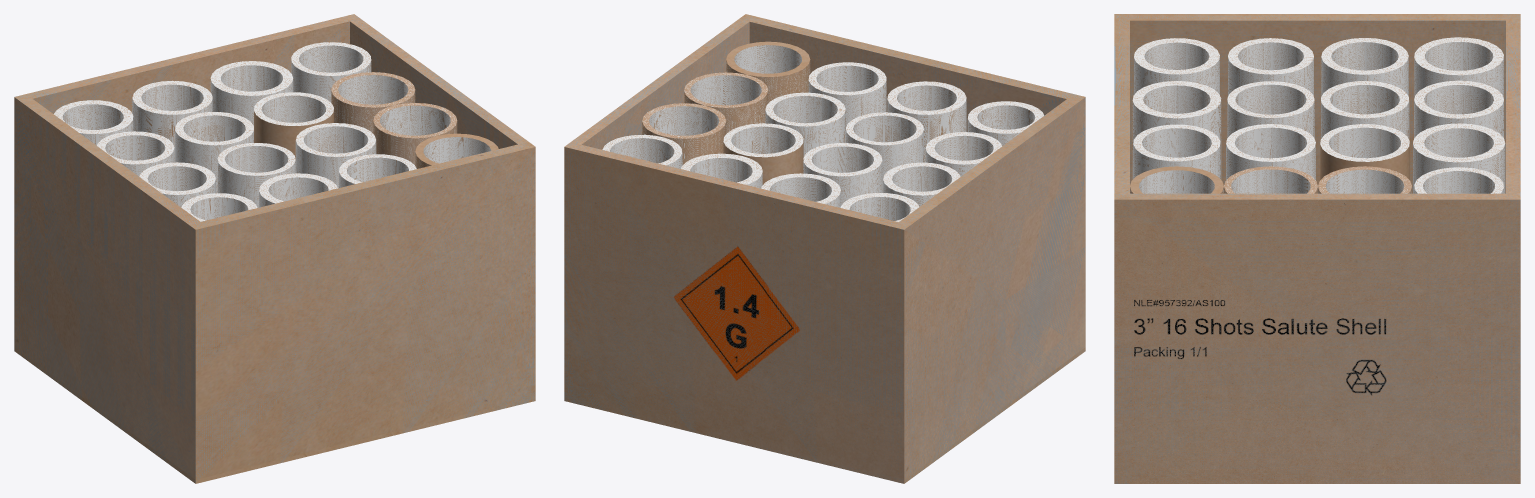
The picture shows the model from 3 angles, left to right: view 1: azimuth 30°, elevation 25°; view 2: azimuth 150°, elevation 25°; view 3: azimuth 270°, elevation 25°; orthographic projection. The views are drawn at different scales.
Visible parts, largest first — view 1: SketchUp (×32); view 2: SketchUp (×33); view 3: SketchUp (×34).
Boxes of the visible parts, x1,y1,x2,y2 form: SketchUp (×32): [14, 14, 535, 483]; SketchUp (×33): [564, 14, 1085, 483]; SketchUp (×34): [1114, 14, 1520, 483].
Bounding box in the file's own units: 43.94 × 40.62 × 31.38.
Materials: 5 (3 with a texture image).
